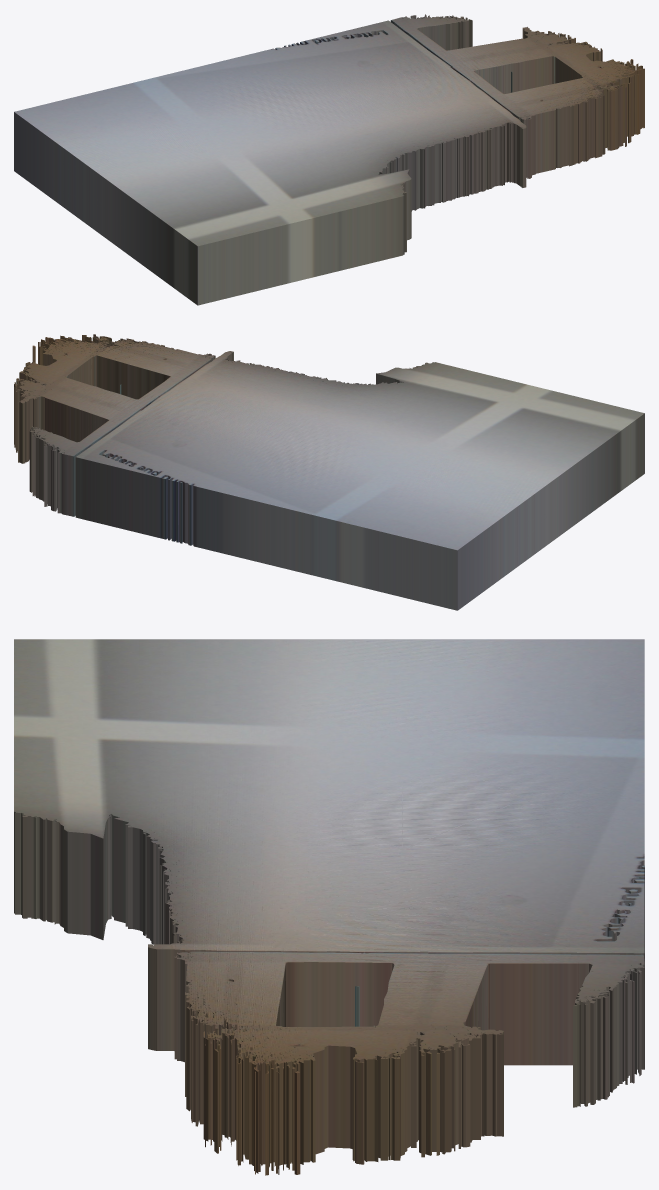
The model's file is Builder20220304015858.gltf.
The picture shows the model from 3 angles, top to bottom: view 1: azimuth 30°, elevation 25°; view 2: azimuth 150°, elevation 25°; view 3: azimuth 270°, elevation 25°; orthographic projection. The views are drawn at different scales.
Size of the model in its own units: 0.2243 by 0.0245 by 0.1377.
Materials: 1 (1 with a texture image).
